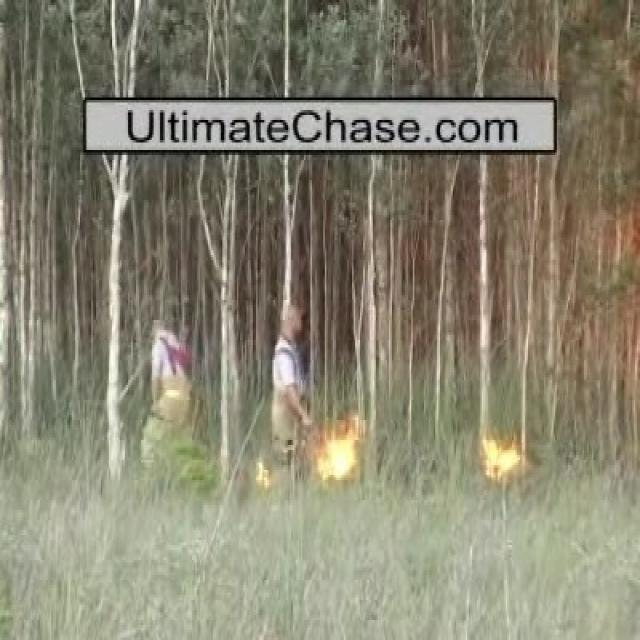fire: (245, 352, 384, 510), (453, 380, 552, 502)
